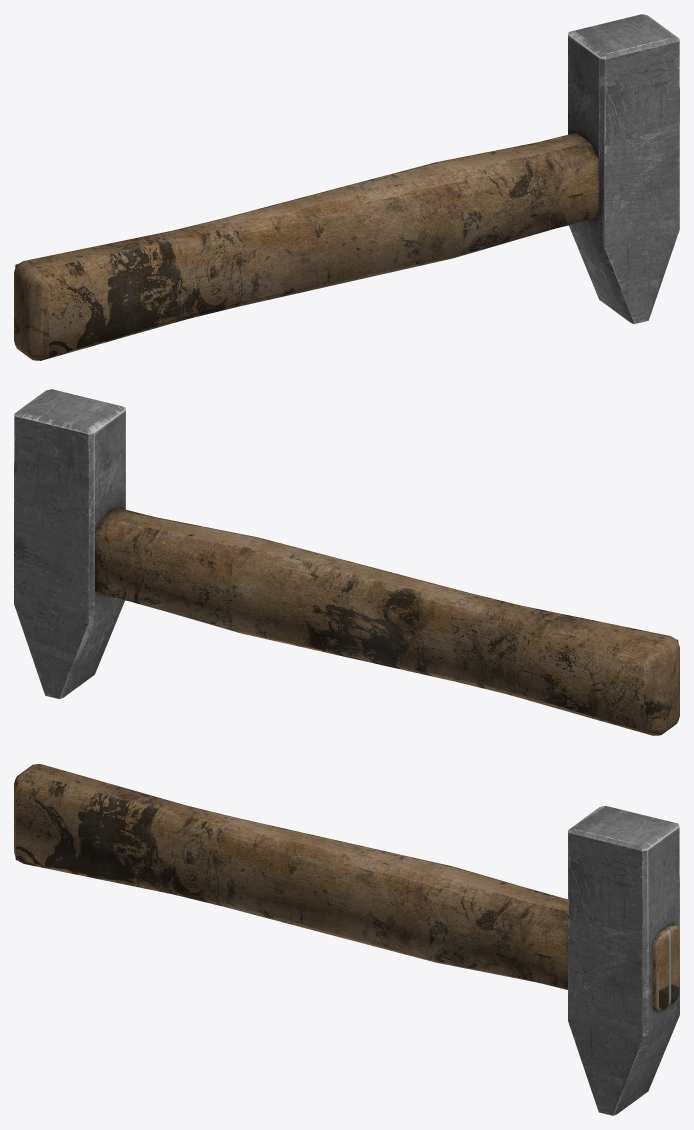
The model's file is Hammer02.FBX.
3 renders of one model, top to bottom at view 1: azimuth 30°, elevation 25°; view 2: azimuth 150°, elevation 25°; view 3: azimuth 330°, elevation 25°, orthographic.
Visible parts, largest first — view 1: Hammer02; view 2: Hammer02; view 3: Hammer02.
Part boxes in pixels (bbox=[...]): Hammer02: bbox=[14, 14, 679, 360]; Hammer02: bbox=[14, 389, 679, 735]; Hammer02: bbox=[14, 764, 679, 1115].
Bounding box in the file's own units: 281 × 114 × 27.63.
